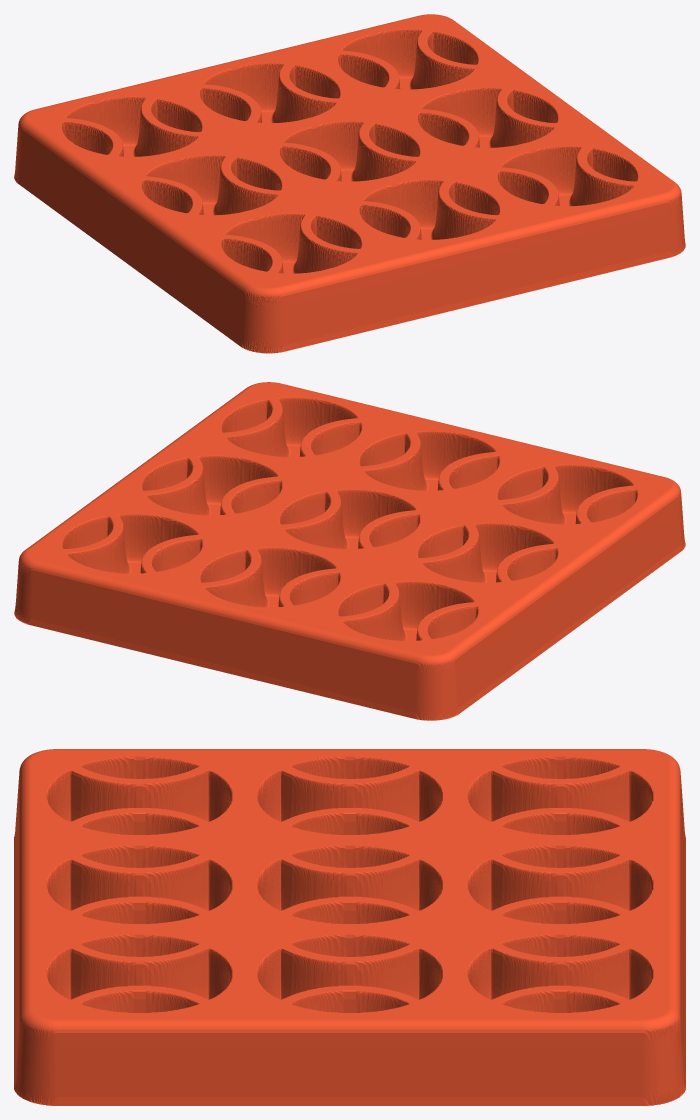
Rendered from mold.glb.
3 renders of one model, top to bottom at view 1: azimuth 30°, elevation 25°; view 2: azimuth 150°, elevation 25°; view 3: azimuth 270°, elevation 25°, orthographic. The views are drawn at different scales.
Parts seen in each view (by area): view 1: geometry_0; view 2: geometry_0; view 3: geometry_0.
Part boxes in pixels (bbox=[...]): geometry_0: bbox=[14, 14, 685, 353]; geometry_0: bbox=[14, 382, 685, 720]; geometry_0: bbox=[14, 749, 685, 1105].
Bounding box in the file's own units: 0.1402 × 0.0182 × 0.1402.
